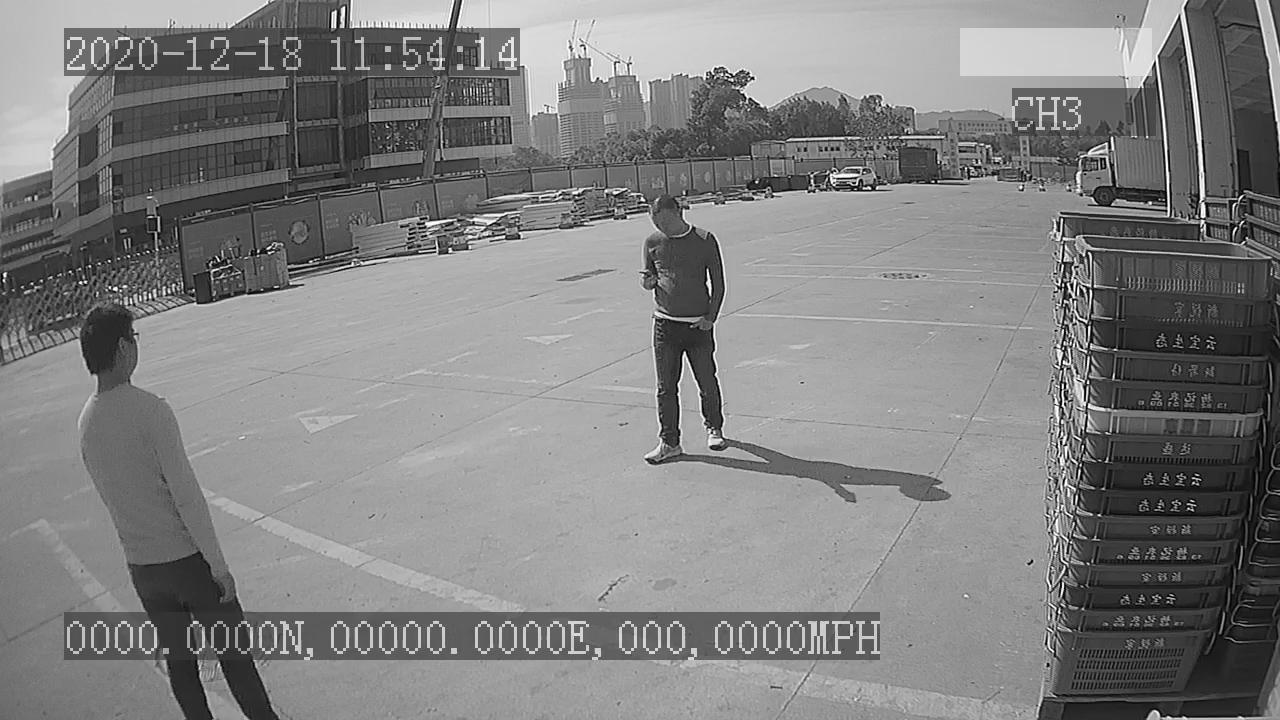person: (626, 188, 733, 469)
